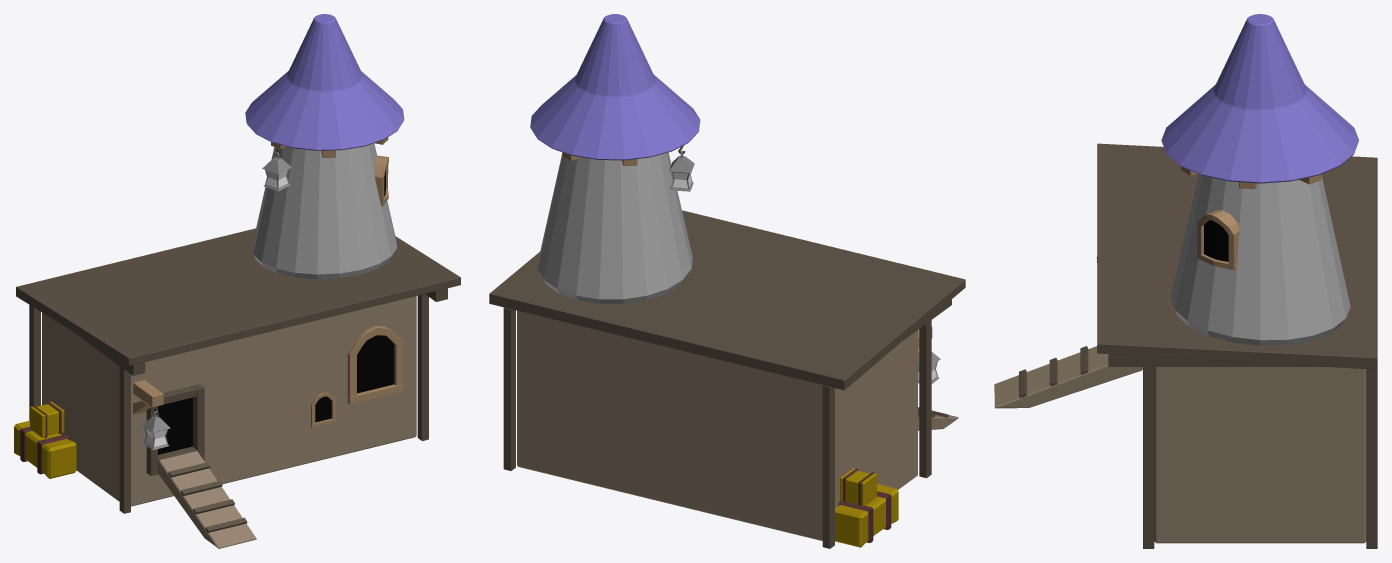
File: Magic_Coop_06.fbx
3 views of the same model, side by side, from view 1: azimuth 30°, elevation 25°; view 2: azimuth 150°, elevation 25°; view 3: azimuth 270°, elevation 25° (orthographic). The views are drawn at different scales.
Visible parts, largest first — view 1: Prop_Chicken_Coop_House_Deko_Windows_small_frame_geo_1, Prop_Chicken_Coop_House_Deko_Doorway_Stairs_Steps_geo_1; view 2: Prop_Chicken_Coop_House_Deko_Windows_small_frame_geo_1; view 3: Prop_Chicken_Coop_House_Deko_Windows_small_frame_geo_1, Prop_Chicken_Coop_House_Deko_Doorway_Stairs_Steps_geo_1.
Part boxes in pixels (x1=…): Prop_Chicken_Coop_House_Deko_Windows_small_frame_geo_1: x1=14, y1=14, x2=460, y2=513; Prop_Chicken_Coop_House_Deko_Doorway_Stairs_Steps_geo_1: x1=158, y1=451, x2=256, y2=548; Prop_Chicken_Coop_House_Deko_Windows_small_frame_geo_1: x1=489, y1=14, x2=965, y2=548; Prop_Chicken_Coop_House_Deko_Windows_small_frame_geo_1: x1=1096, y1=14, x2=1377, y2=548; Prop_Chicken_Coop_House_Deko_Doorway_Stairs_Steps_geo_1: x1=994, y1=346, x2=1142, y2=408.
Size of the model in its own units: 949 by 1062 by 745.
